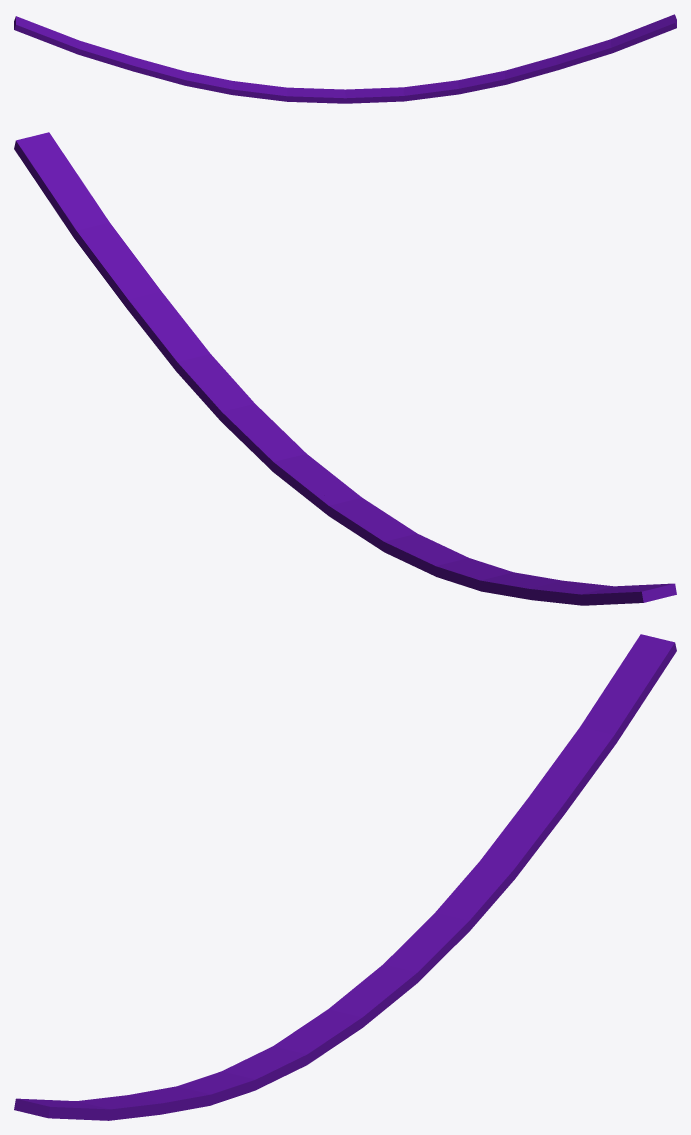
File: Tape_22_chunks.fbx
3 renders of one model, top to bottom at view 1: azimuth 30°, elevation 25°; view 2: azimuth 150°, elevation 25°; view 3: azimuth 270°, elevation 25°, orthographic. The views are drawn at different scales.
Parts seen in each view (by area): view 1: Tape_22_2, Tape_22_0, Tape_22_1, Tape_22_3; view 2: Tape_22_2, Tape_22_0, Tape_22_1, Tape_22_3; view 3: Tape_22_0, Tape_22_2, Tape_22_1, Tape_22_3.
Part boxes in pixels (box(x1,y1,x2,y2)): Tape_22_2: box(388, 14, 676, 101); Tape_22_0: box(14, 16, 299, 99); Tape_22_1: box(272, 88, 397, 103); Tape_22_3: box(347, 82, 444, 94); Tape_22_2: box(14, 132, 320, 466); Tape_22_0: box(372, 533, 676, 605); Tape_22_1: box(315, 465, 421, 550); Tape_22_3: box(222, 422, 327, 510); Tape_22_0: box(389, 634, 676, 983); Tape_22_2: box(14, 1036, 292, 1120); Tape_22_1: box(287, 959, 415, 1037); Tape_22_3: box(256, 1018, 361, 1089).
Size of the model in its own units: 687 by 103 by 405.
